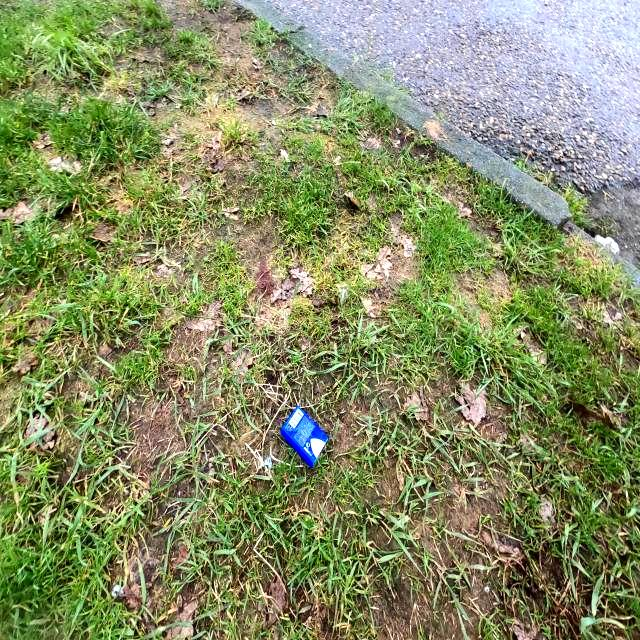Plastic: (280, 404, 330, 468)
